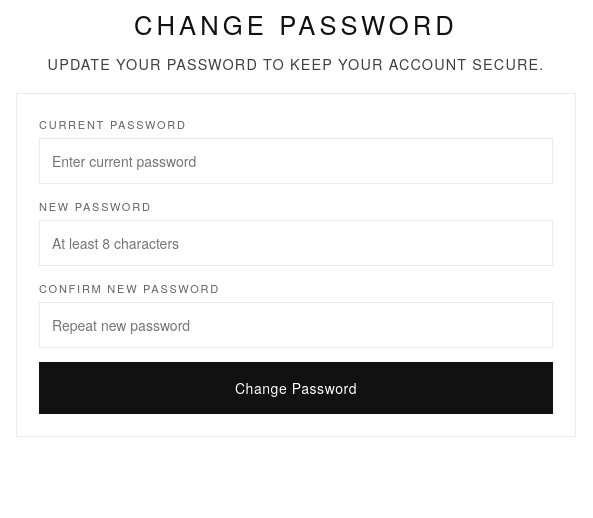
Scenario: PasswordChange - submission › shows a success message and clears the fields after a successful change
The image size is (593, 518).
Type "oldpass123" into the password field labelled "Current Password" at (296, 161), box [39,138,553,184]
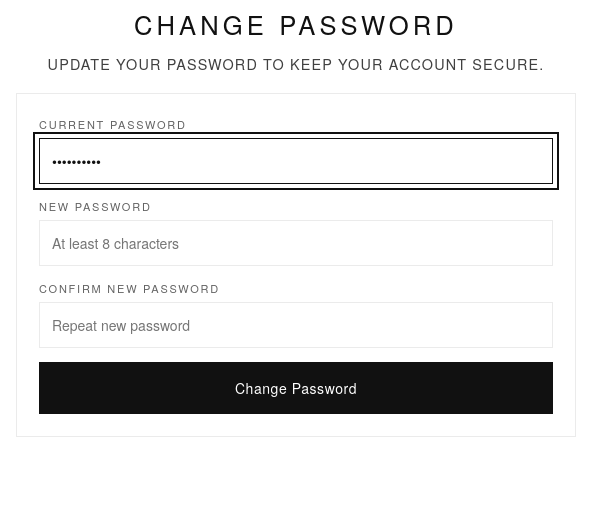
Type "NewStrongPass123" into the password field labelled "New Password" at (296, 243), box [39,220,553,266]
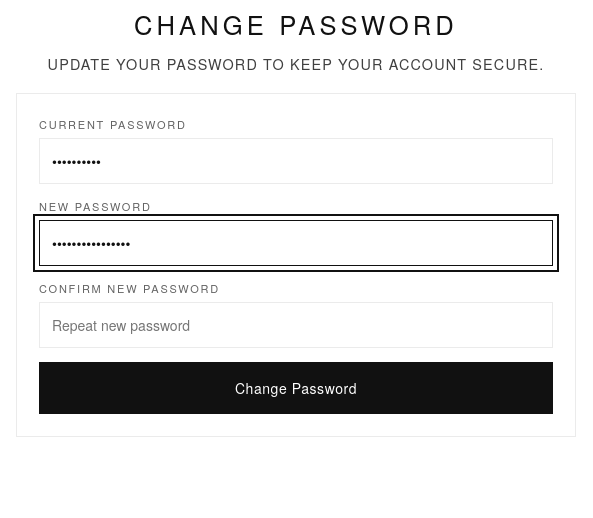
Type "NewStrongPass123" into the password field labelled "Confirm New Password" at (296, 325), box [39,302,553,348]
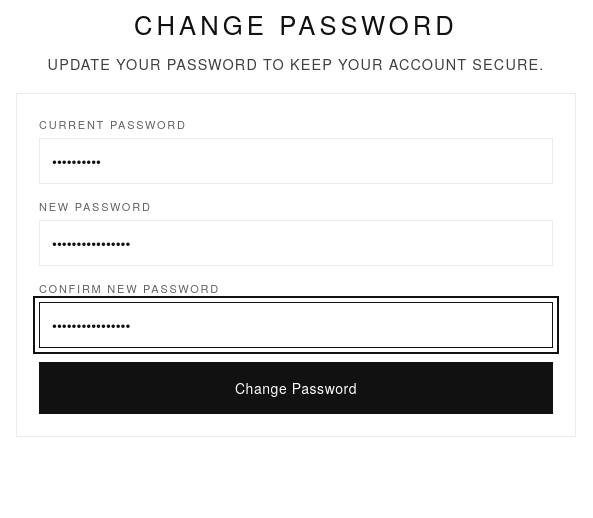
Click the button "Change Password" at (296, 388), box [39,362,553,414]
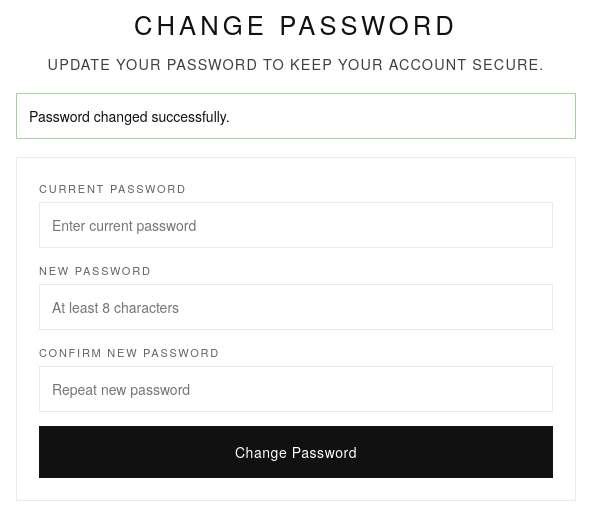
Result: the text "Password changed successfully." is shown at [16,93,576,139]
Result: the password field labelled "Current Password" is empty at [39,202,553,248]
Result: the password field labelled "New Password" is empty at [39,284,553,330]
